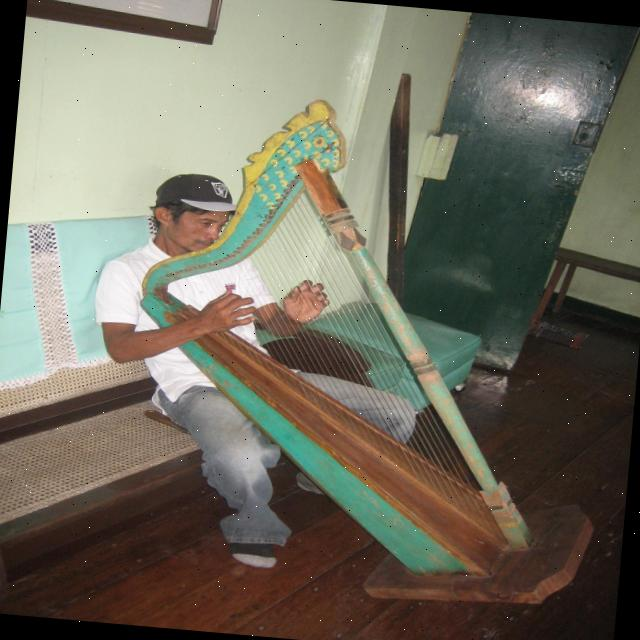harp: (110, 85, 632, 614)
